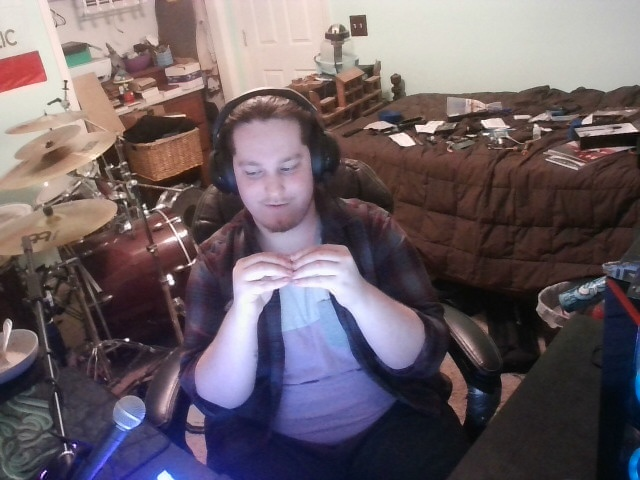more: (205, 242, 375, 319)
